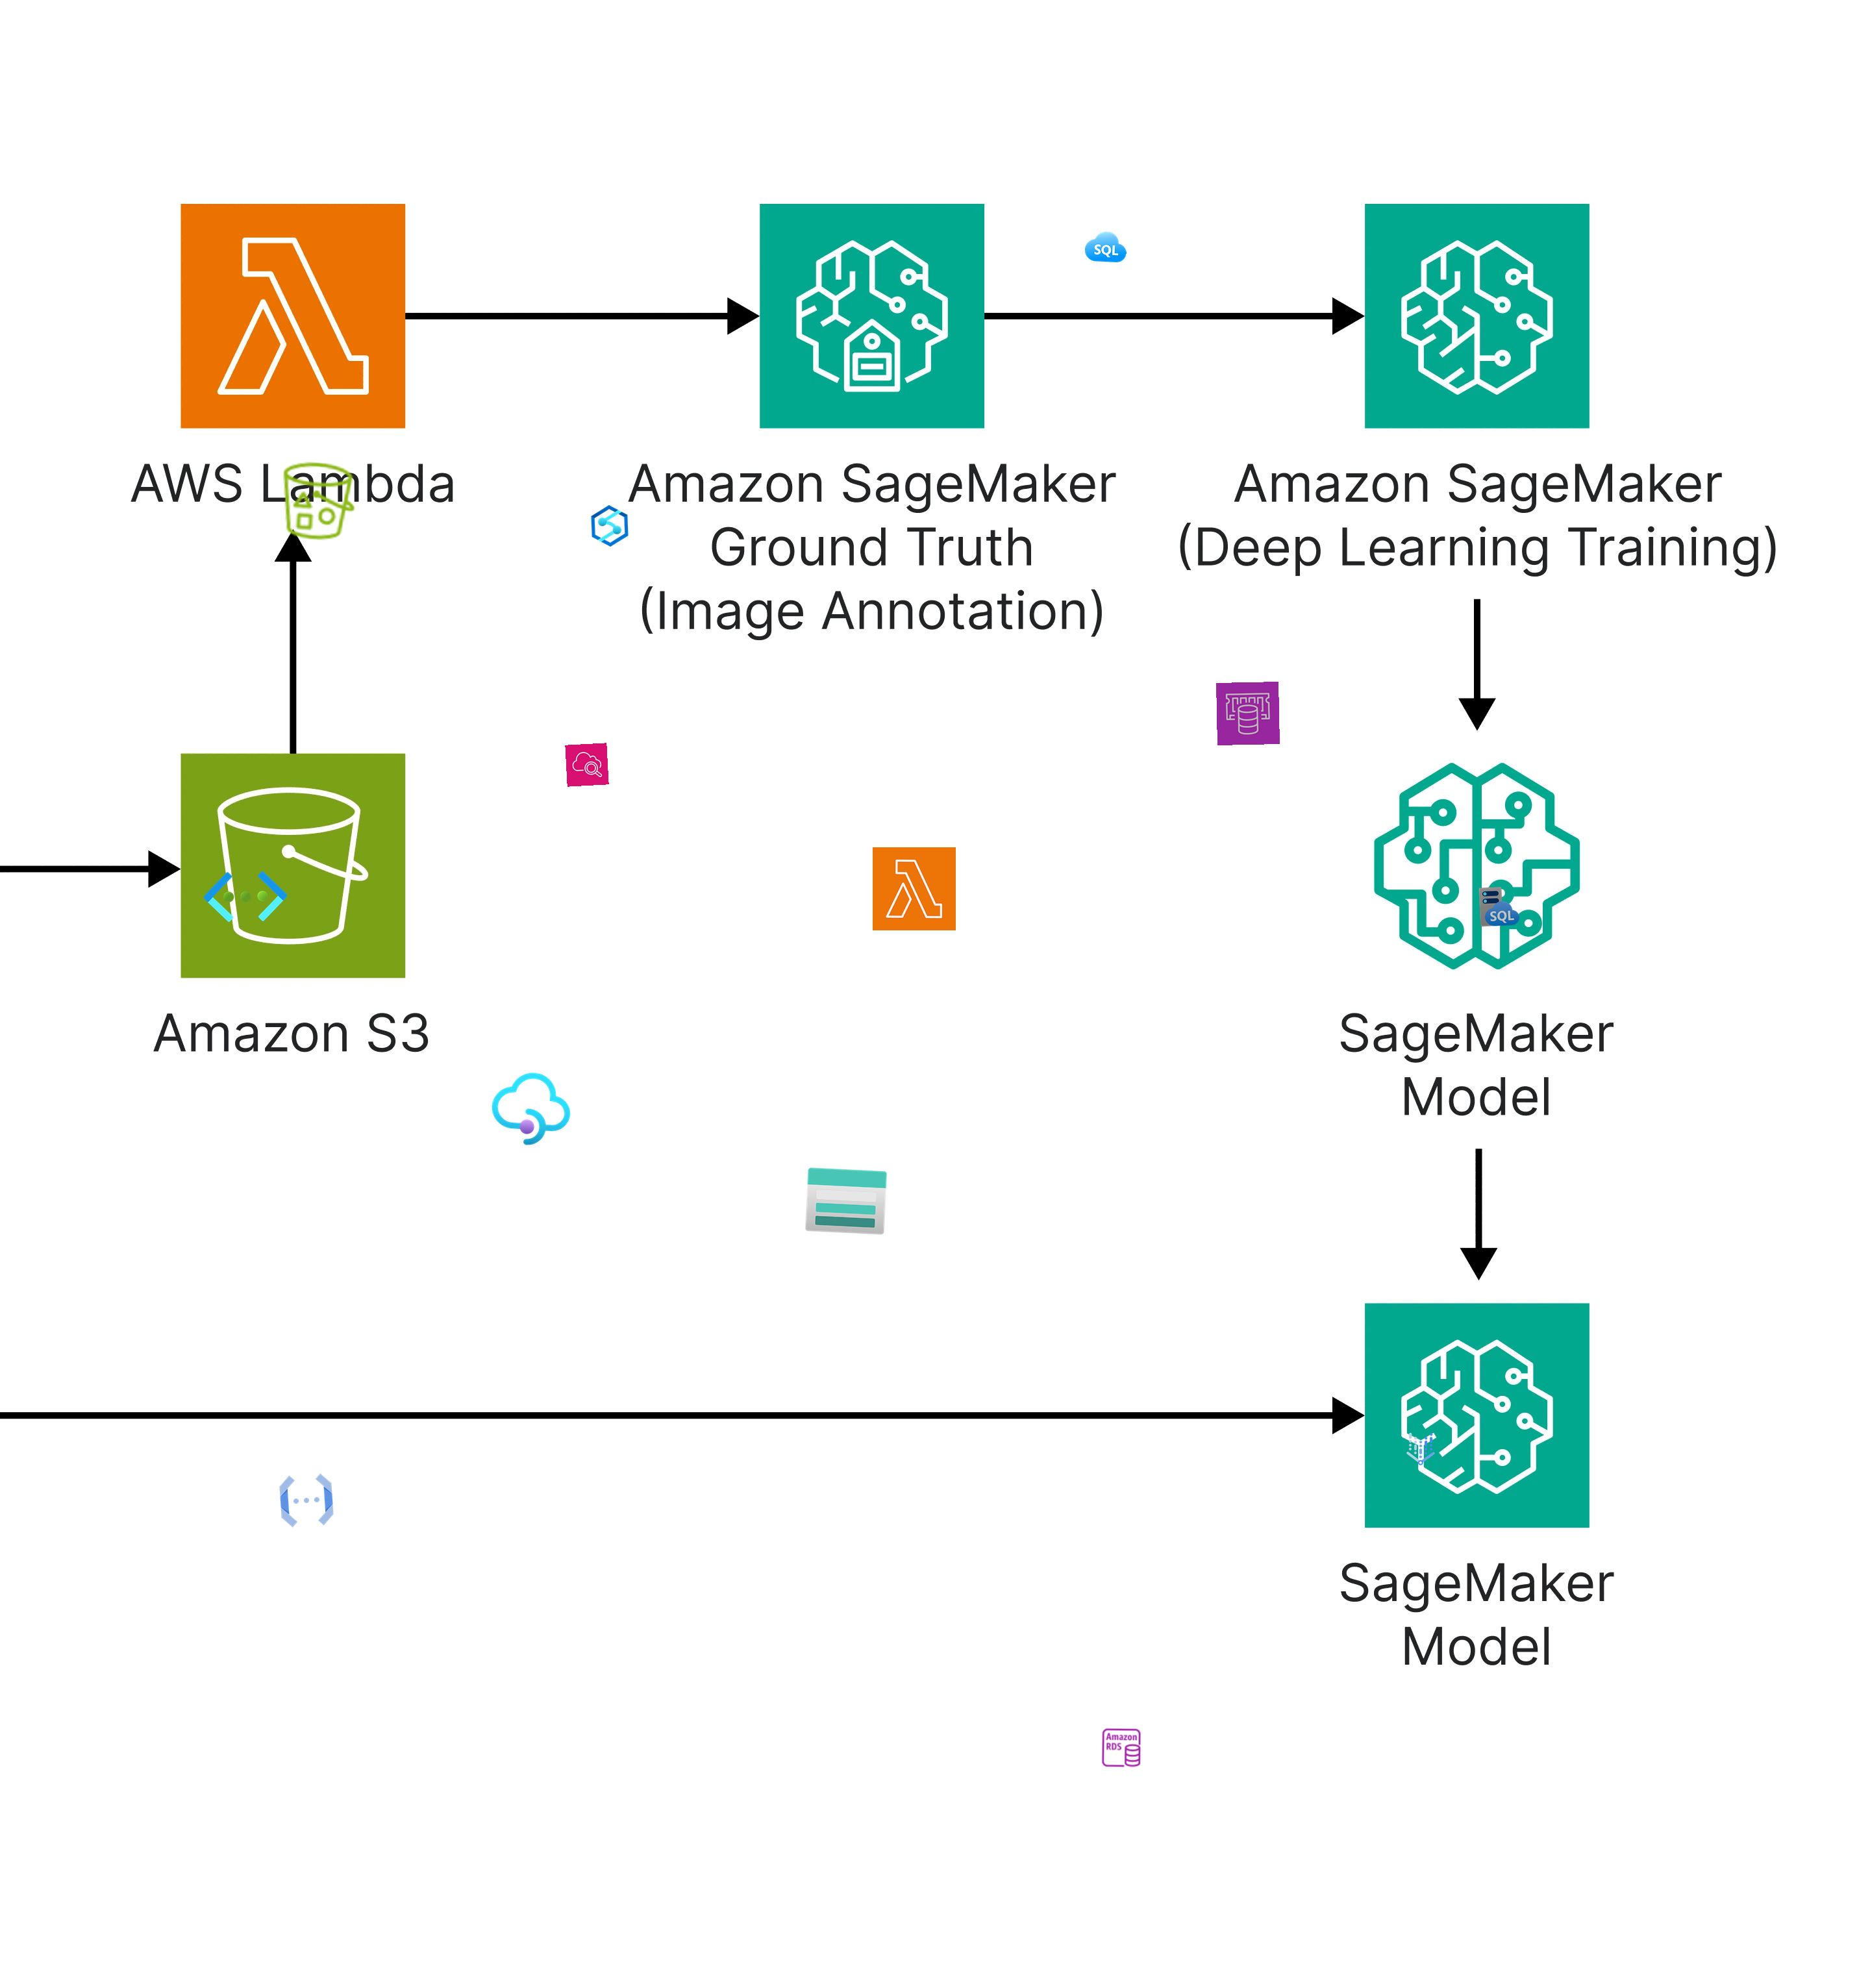aws_amazon_cloudwatch: (564, 744, 610, 787)
aws_amazon_elasticache: (1216, 682, 1279, 745)
aws_aurora_amazon_rds_instance: (1100, 1726, 1142, 1770)
aws_lambda: (872, 847, 956, 932)
aws_simple_storage_service_bucket_with_objects: (274, 457, 364, 547)
azure_api_management_services: (487, 1063, 576, 1153)
azure_sql: (1084, 225, 1128, 269)
azure_sql_managed_instance: (1476, 884, 1522, 928)
azure_storage_accounts: (801, 1157, 891, 1244)
azure_synapse_analytics: (587, 504, 631, 548)
azure_virtual_networks: (202, 854, 288, 939)
gcp_cloud_functions: (272, 1466, 341, 1535)
gcp_vertex_ai: (1399, 1427, 1443, 1471)
